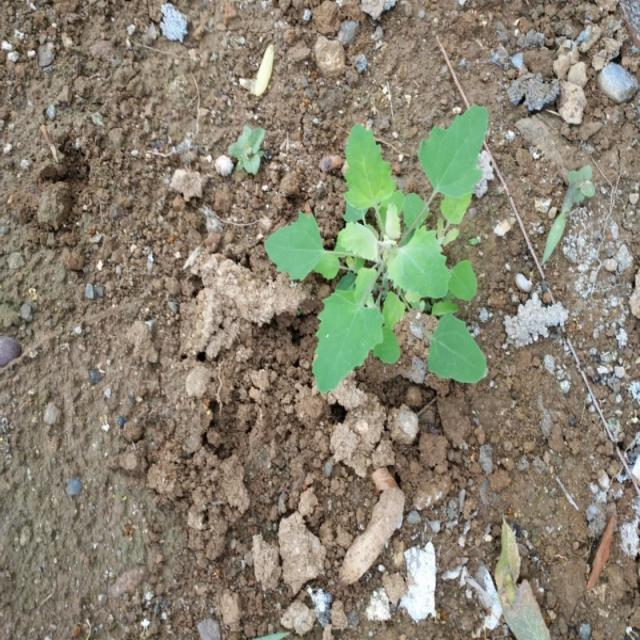ca: (264, 107, 492, 393)
